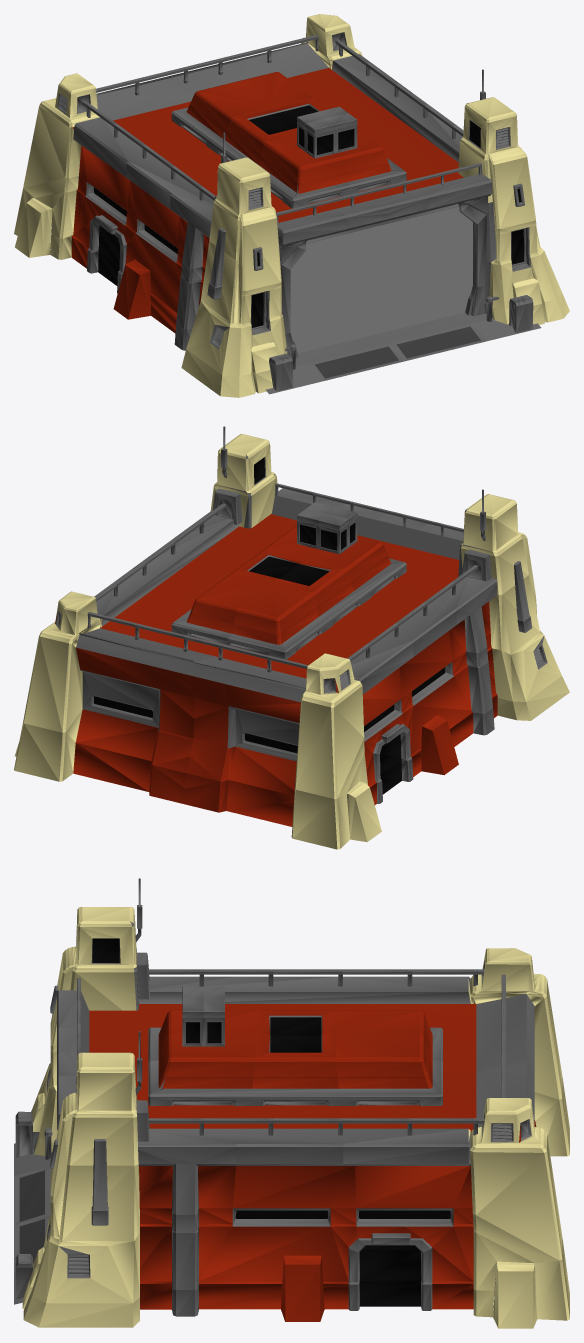
Rendered from building - enemy vehicle bay.glb.
The picture shows the model from 3 angles, top to bottom: view 1: azimuth 30°, elevation 25°; view 2: azimuth 150°, elevation 25°; view 3: azimuth 270°, elevation 25°; orthographic projection. The views are drawn at different scales.
Parts seen in each view (by area): view 1: building, door; view 2: building; view 3: building.
Part boxes in pixels (<box>): building: <box>14,14,569,397</box>; door: <box>279,206,472,353</box>; building: <box>14,426,569,849</box>; building: <box>14,878,569,1328</box>.
Size of the model in its own units: 22.44 by 13.5 by 25.28.
